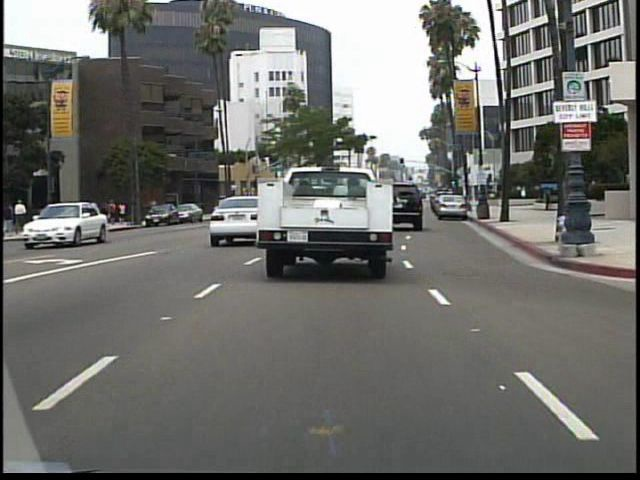person: (15, 196, 31, 234), (68, 198, 85, 232), (5, 199, 18, 237), (543, 183, 554, 213)
